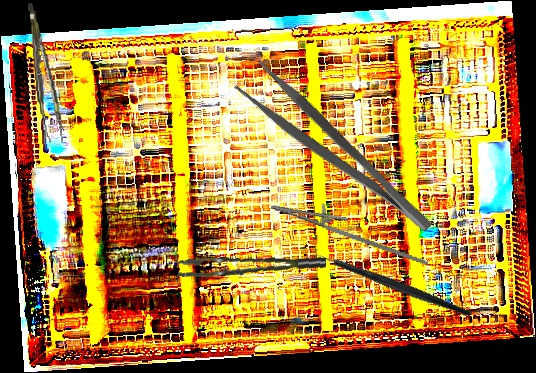Chopper: (302, 204, 474, 368)
Dressing Forceps: (232, 56, 438, 252)
Needle Holder: (265, 191, 437, 267)
Tissue Forceps: (176, 245, 327, 289), (27, 1, 64, 146)
